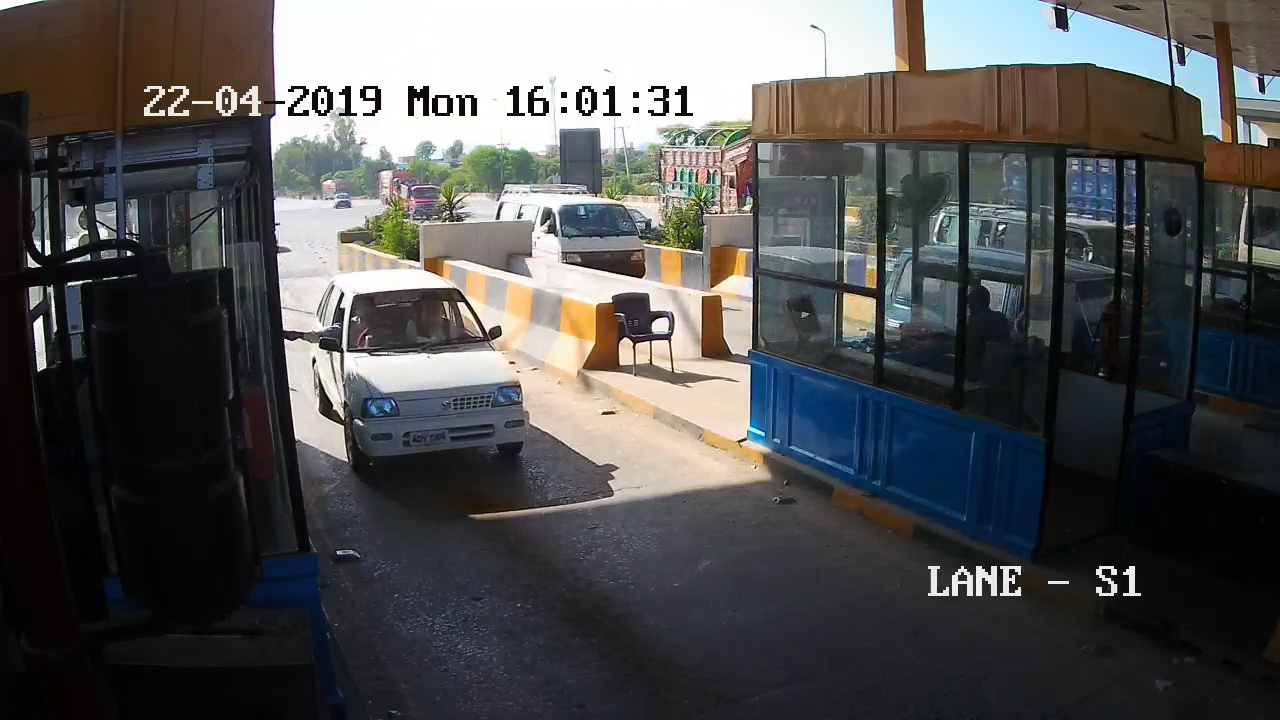car: (303, 272, 545, 494)
